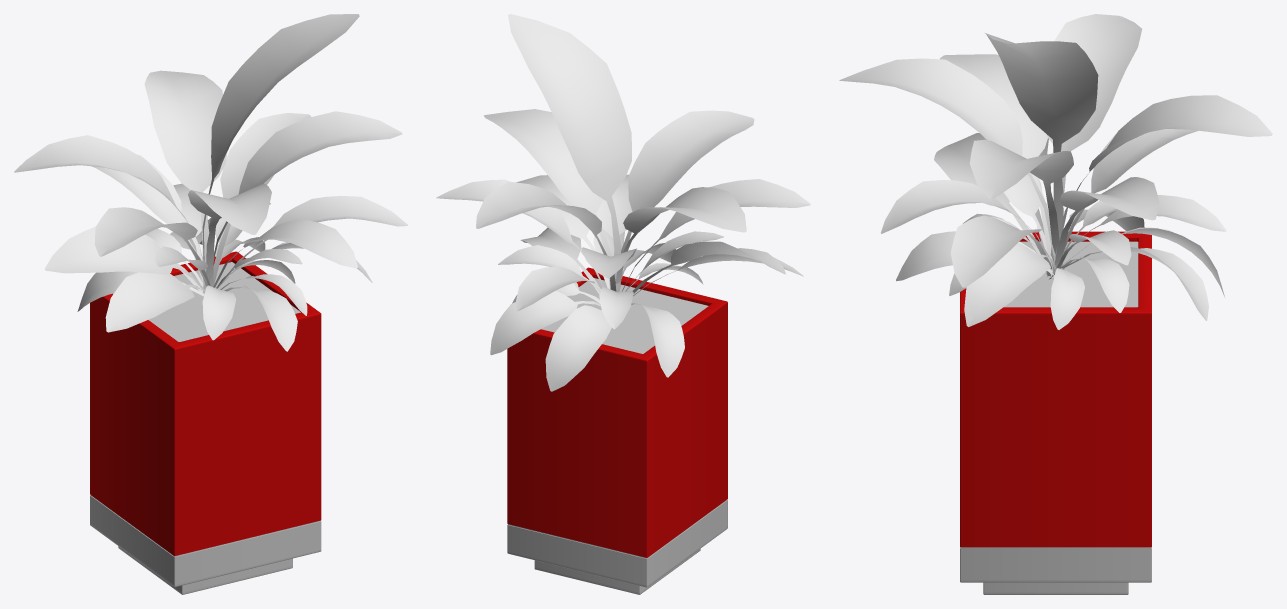
File: Plant Spathiphyllum.fbx
3 renders of one model, left to right at view 1: azimuth 30°, elevation 25°; view 2: azimuth 150°, elevation 25°; view 3: azimuth 270°, elevation 25°, orthographic. The views are drawn at different scales.
Visible parts, largest first — view 1: Vase, Plant_Spathiphyllum; view 2: Vase, Plant_Spathiphyllum; view 3: Plant_Spathiphyllum, Vase.
Part boxes in pixels (box(x1,y1,x2,y2)): Vase: box(90, 251, 321, 594); Plant_Spathiphyllum: box(14, 14, 407, 351); Vase: box(507, 267, 727, 594); Plant_Spathiphyllum: box(436, 14, 810, 391); Plant_Spathiphyllum: box(839, 14, 1272, 329); Vase: box(960, 231, 1151, 594).
Size of the model in its own units: 65.59 by 97.7 by 64.57.
